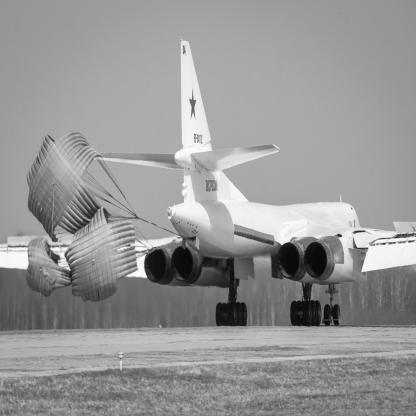Tu160: (1, 39, 416, 328)
